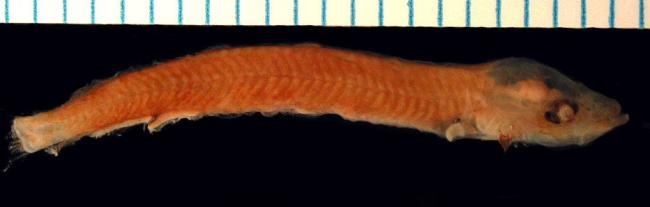fish: (11, 44, 630, 159)
